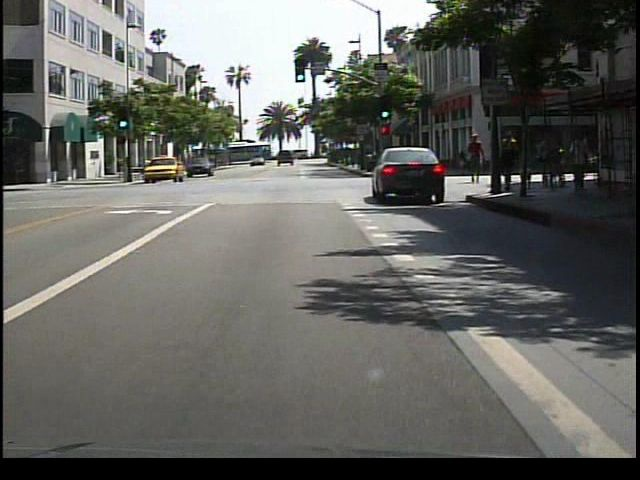person: (466, 131, 491, 189)
